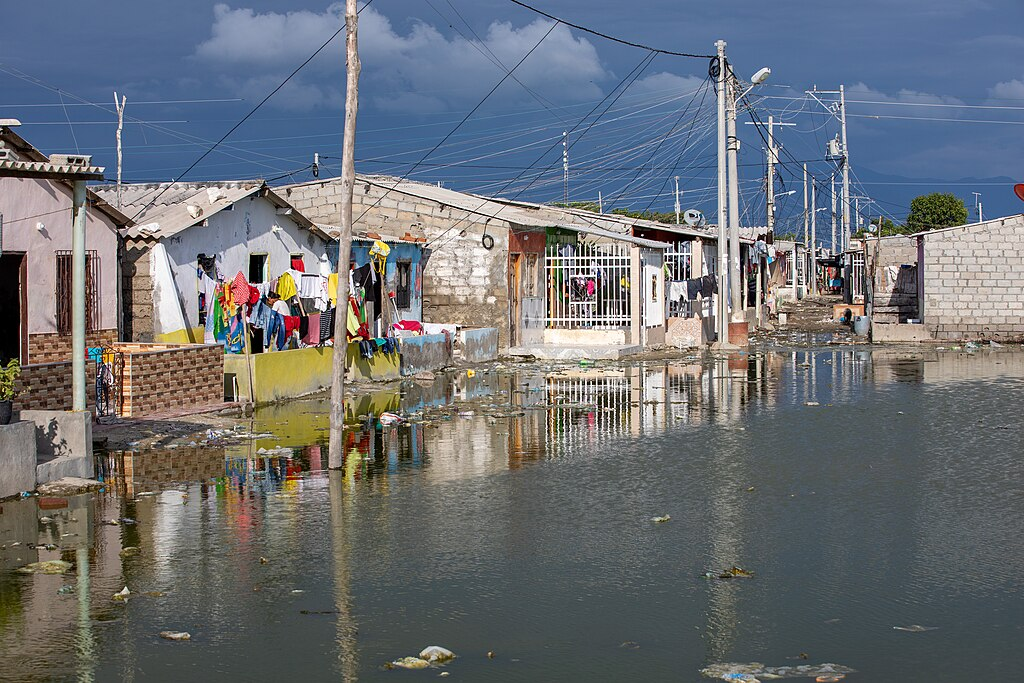House: (141, 181, 355, 388), (2, 134, 130, 405), (354, 241, 493, 363)
